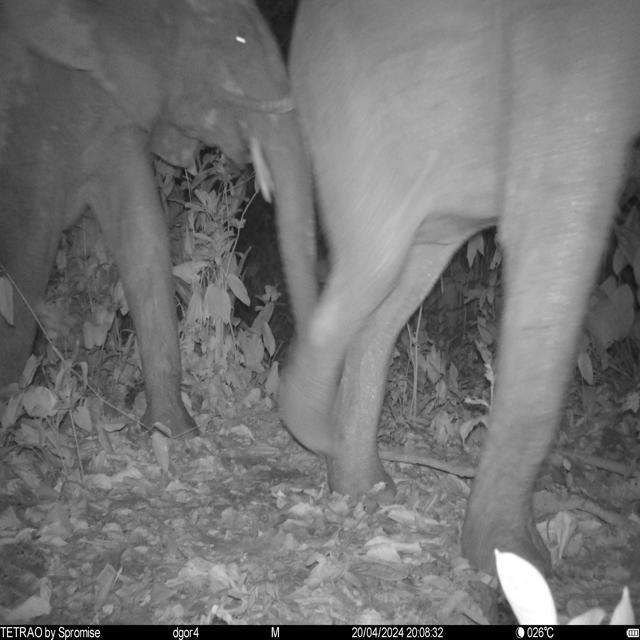ear: (0, 5, 176, 134)
elephant: (280, 4, 640, 581), (0, 0, 317, 441)
tusk: (248, 138, 271, 204)
